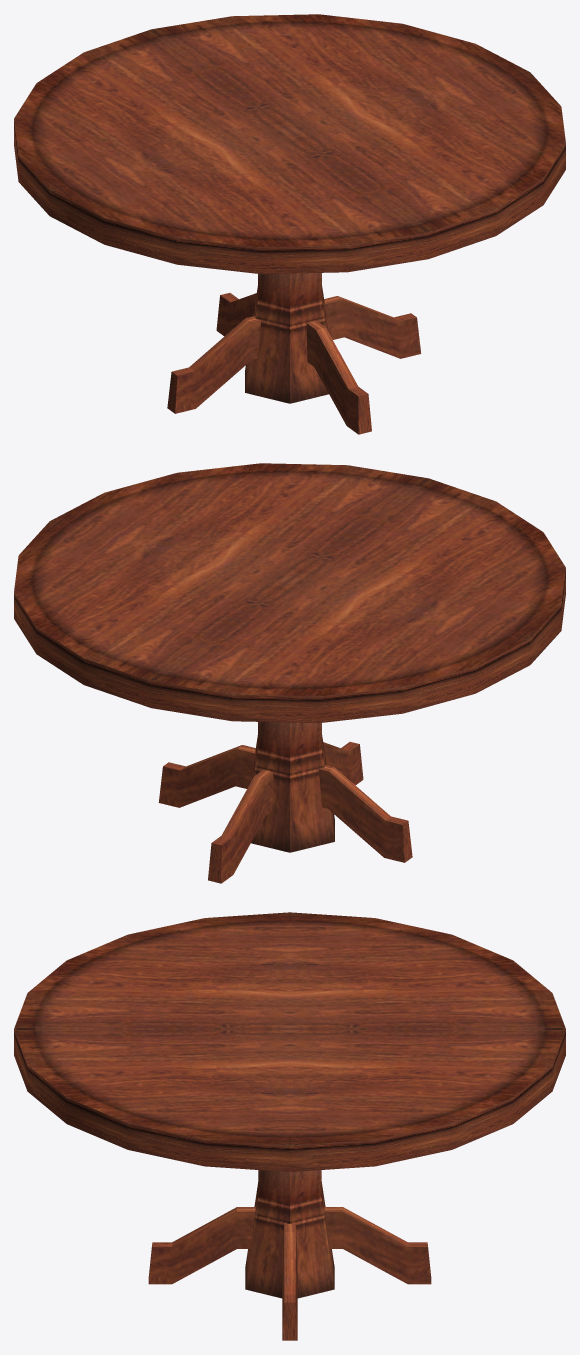
File: kitchen_table.fbx
3 views of the same model, one above another, from view 1: azimuth 30°, elevation 25°; view 2: azimuth 150°, elevation 25°; view 3: azimuth 270°, elevation 25° (orthographic).
Visible parts, largest first — view 1: mesh_0; view 2: mesh_0; view 3: mesh_0.
Boxes of the visible parts, box(x1,y1,x2,y2) form: mesh_0: box(14, 14, 565, 434); mesh_0: box(14, 463, 565, 883); mesh_0: box(14, 912, 565, 1340).
Bounding box in the file's own units: 160 × 80.07 × 160.
Materials: 1 (1 with a texture image).
